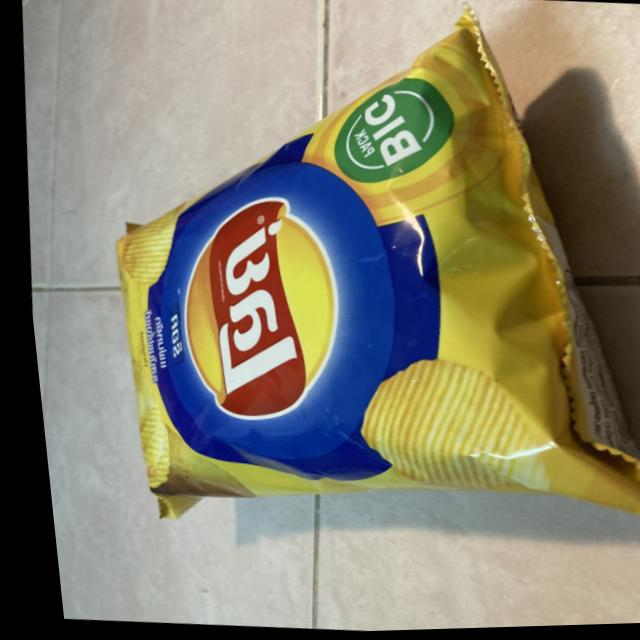LayYellow: (44, 0, 640, 598)
